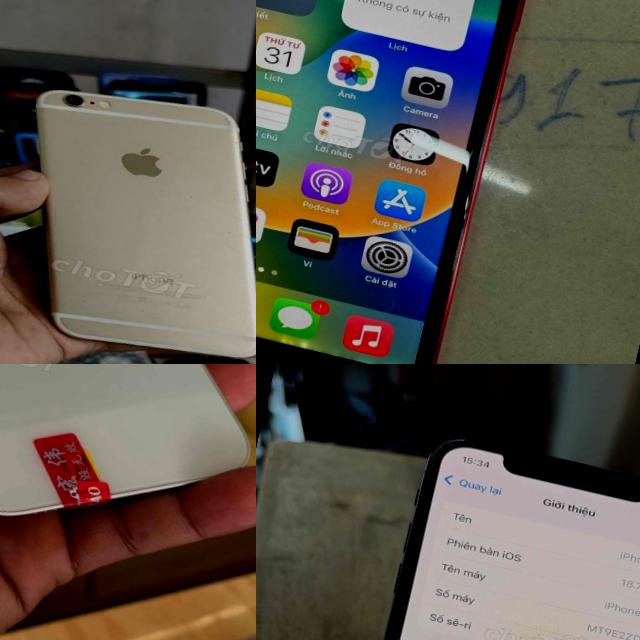gen_15: (0, 364, 256, 568)
gen_6: (37, 90, 256, 357)
gen_7_8: (256, 0, 553, 364)
gen_x_xs: (325, 425, 640, 640)
